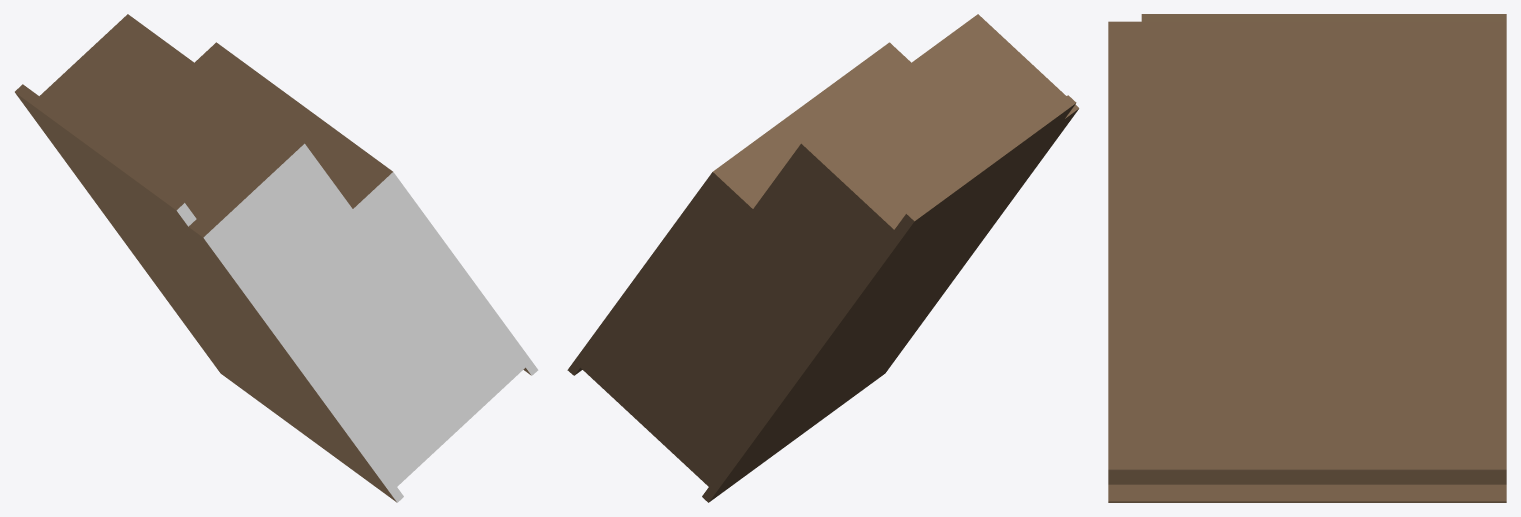
3 renders of one model, left to right at view 1: azimuth 30°, elevation 25°; view 2: azimuth 150°, elevation 25°; view 3: azimuth 270°, elevation 25°, orthographic. The views are drawn at different scales.
Visible parts, largest first — view 1: City_PC-08621; view 2: City_PC-08621; view 3: City_PC-08621.
Part boxes in pixels (left/top/right/bottom): City_PC-08621: left=15, top=14, right=538, bottom=502; City_PC-08621: left=567, top=14, right=1079, bottom=502; City_PC-08621: left=1108, top=14, right=1506, bottom=502.
Bounding box in the file's own units: 1554 × 1634 × 1371.
